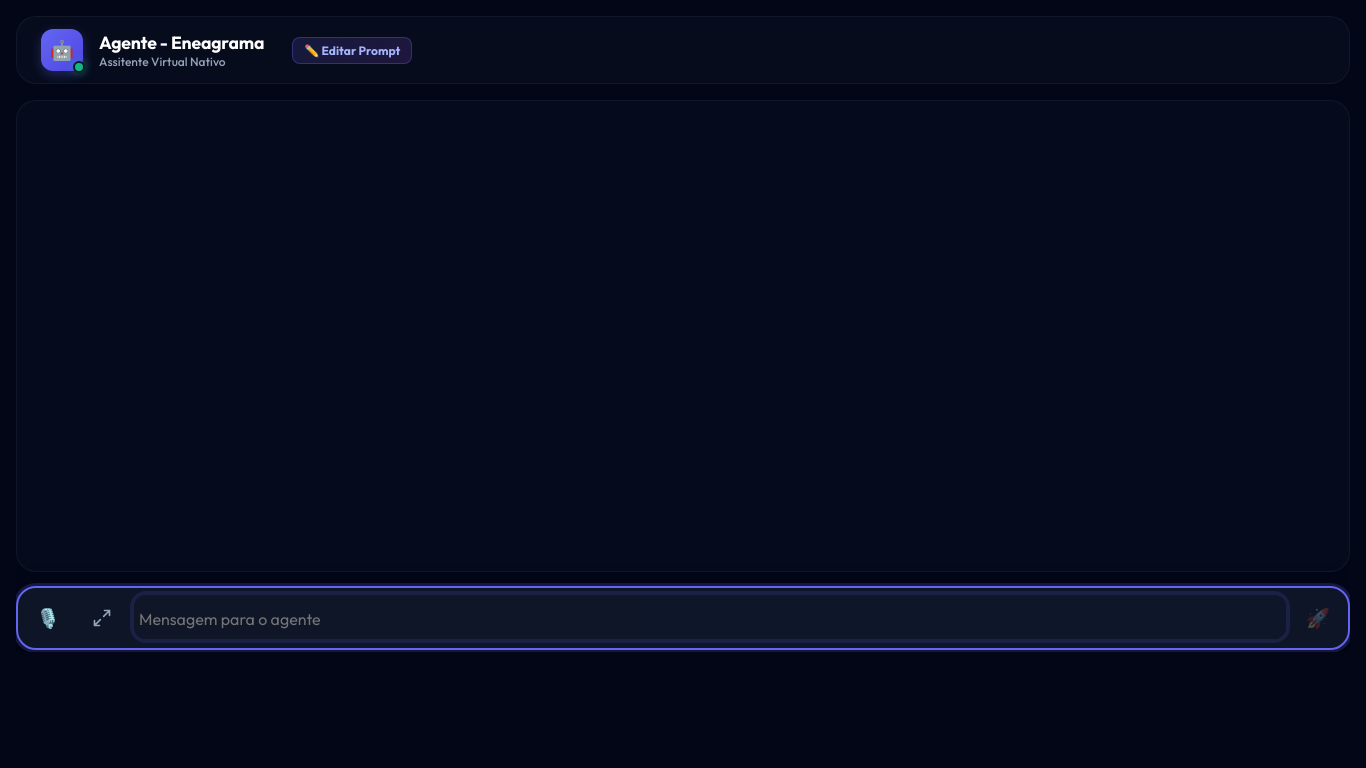
Test case: ChatPlayground Component › should send a message and show the response
This screenshot has width=1366, height=768.
Type "Olá!" into the text box with placeholder "Mensagem para o agente".
click(710, 617); type("Olá!")  # box [134,595,1286,639]
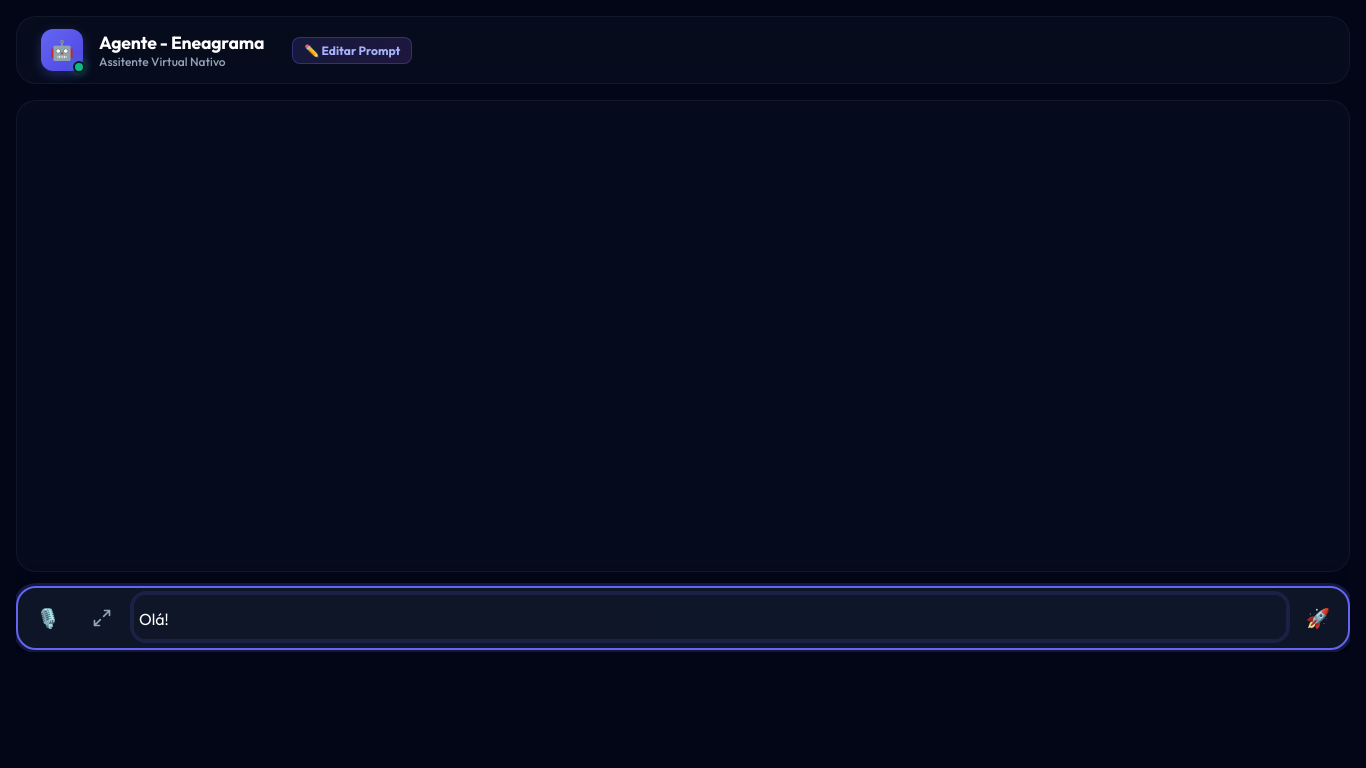
expect the button "🚀" is enabled: met
Click the button "🚀".
click(1318, 618)  # box [1296,596,1340,640]
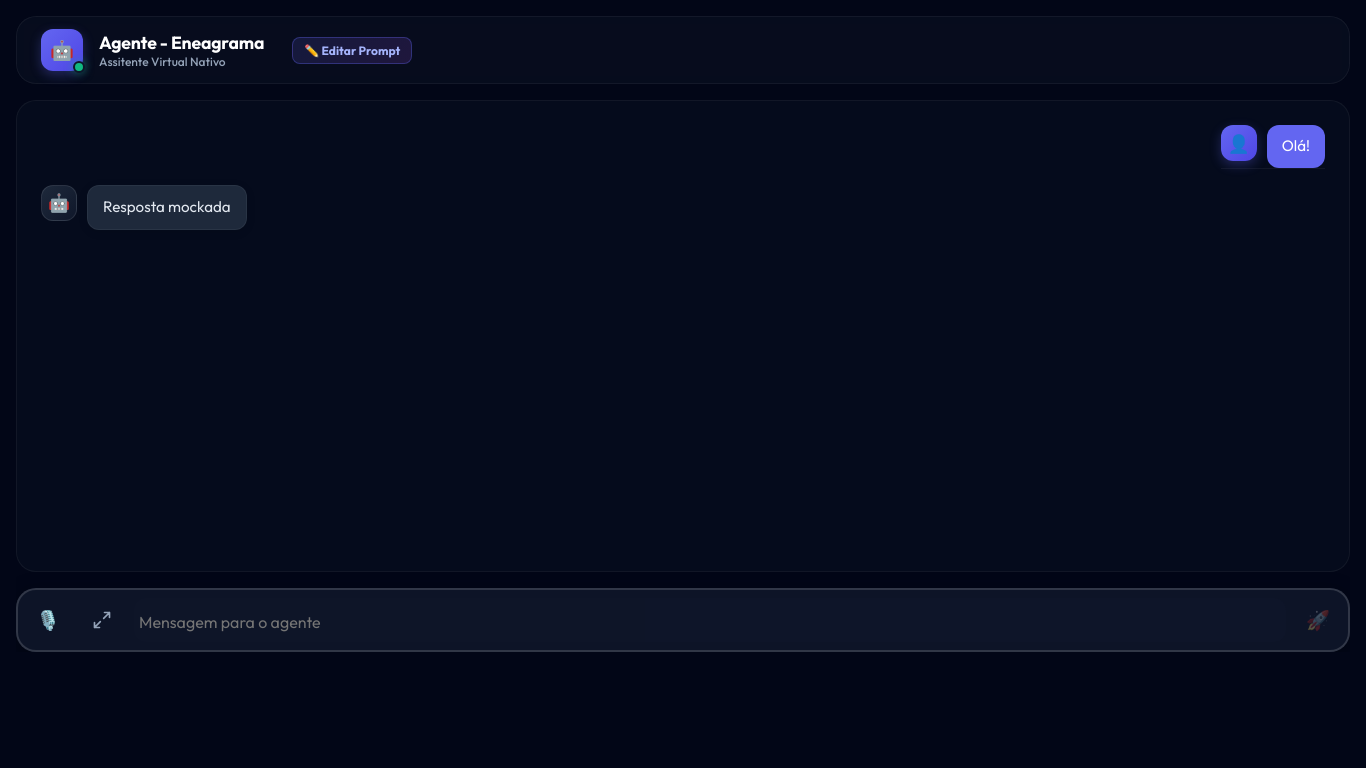
expect the text "Olá!" is shown: met, box [1282,135,1310,158]
expect the text "Resposta mockada" is shown: met, box [103,196,231,219]
